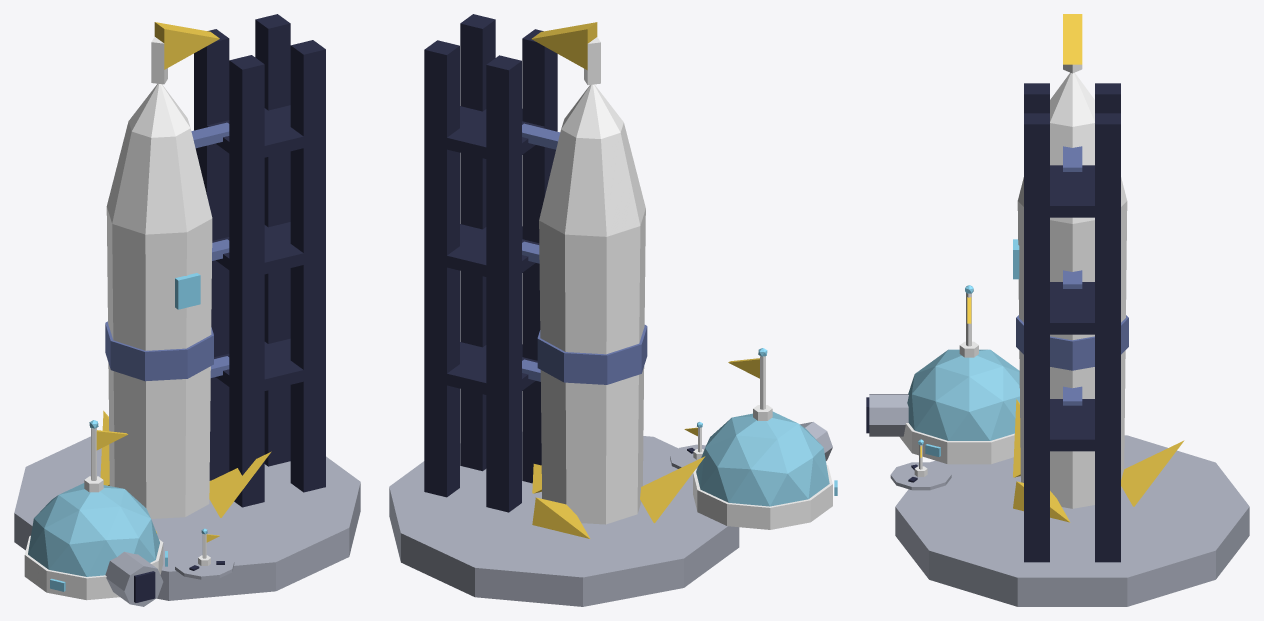
File: space-landmark-s3.glb
3 renders of one model, left to right at view 1: azimuth 30°, elevation 25°; view 2: azimuth 150°, elevation 25°; view 3: azimuth 270°, elevation 25°, orthographic.
Parts seen in each view (by area): view 1: space-landmark-s3; view 2: space-landmark-s3; view 3: space-landmark-s3.
Part boxes in pixels (left/top/right/bottom): space-landmark-s3: left=14, top=14, right=360, bottom=606; space-landmark-s3: left=389, top=14, right=837, bottom=606; space-landmark-s3: left=866, top=14, right=1249, bottom=606.
Size of the model in its own units: 1.25 by 1.74 by 1.19.
